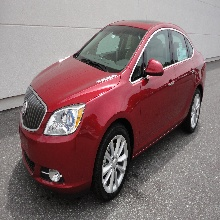no damage: (19, 19, 206, 201)
